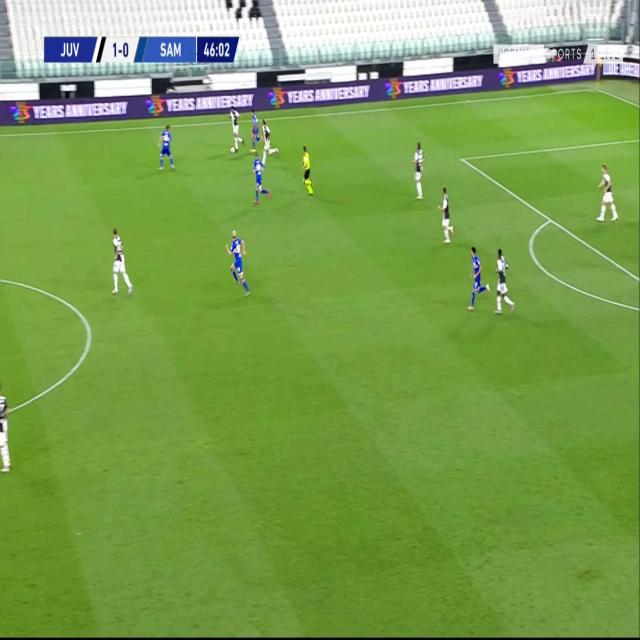ball: (230, 146, 235, 154)
player: (224, 231, 252, 298), (109, 227, 134, 301), (490, 247, 514, 321), (464, 247, 490, 314), (596, 163, 620, 224), (0, 381, 13, 479), (250, 152, 270, 207), (260, 119, 280, 168), (438, 186, 454, 244), (158, 122, 175, 172), (299, 145, 313, 199), (229, 107, 245, 153), (414, 142, 425, 202), (250, 111, 262, 153)
